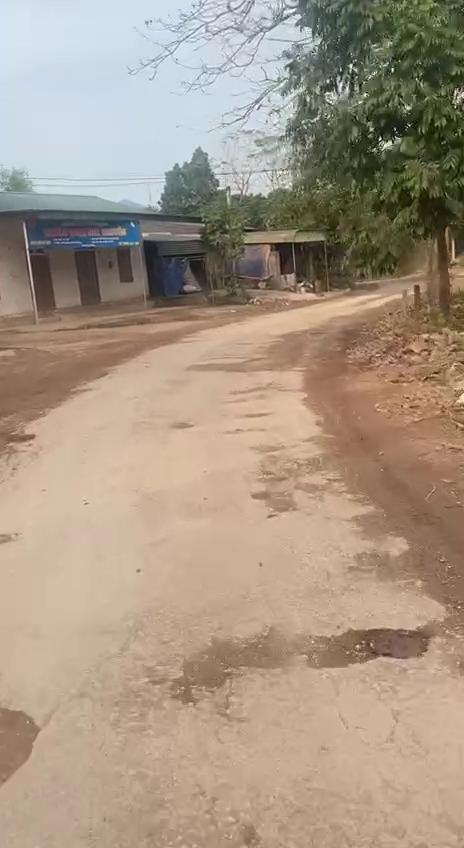pothole: (176, 612, 444, 706), (0, 696, 54, 791)
